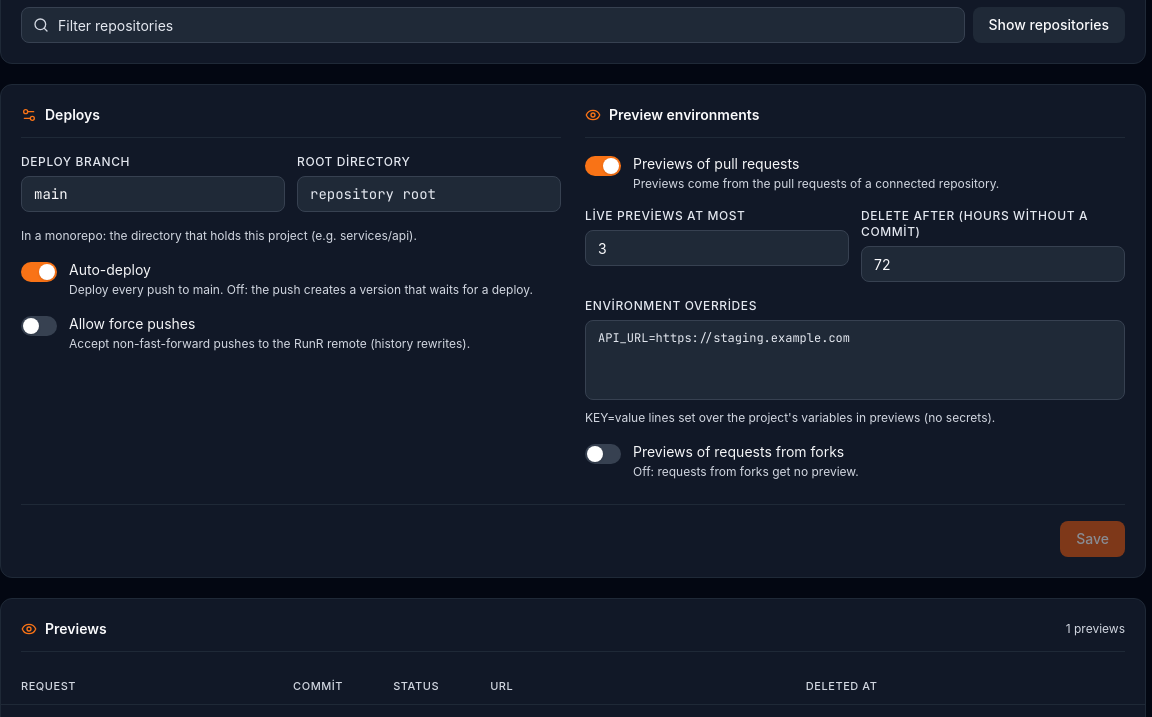
Test: ProjectGitTab › refuses reserved preview variables
(page scrolled)
Type "PORT=1" into the text box labelled "Environment overrides" at (855, 360), box left=585, top=320, right=1125, bottom=400
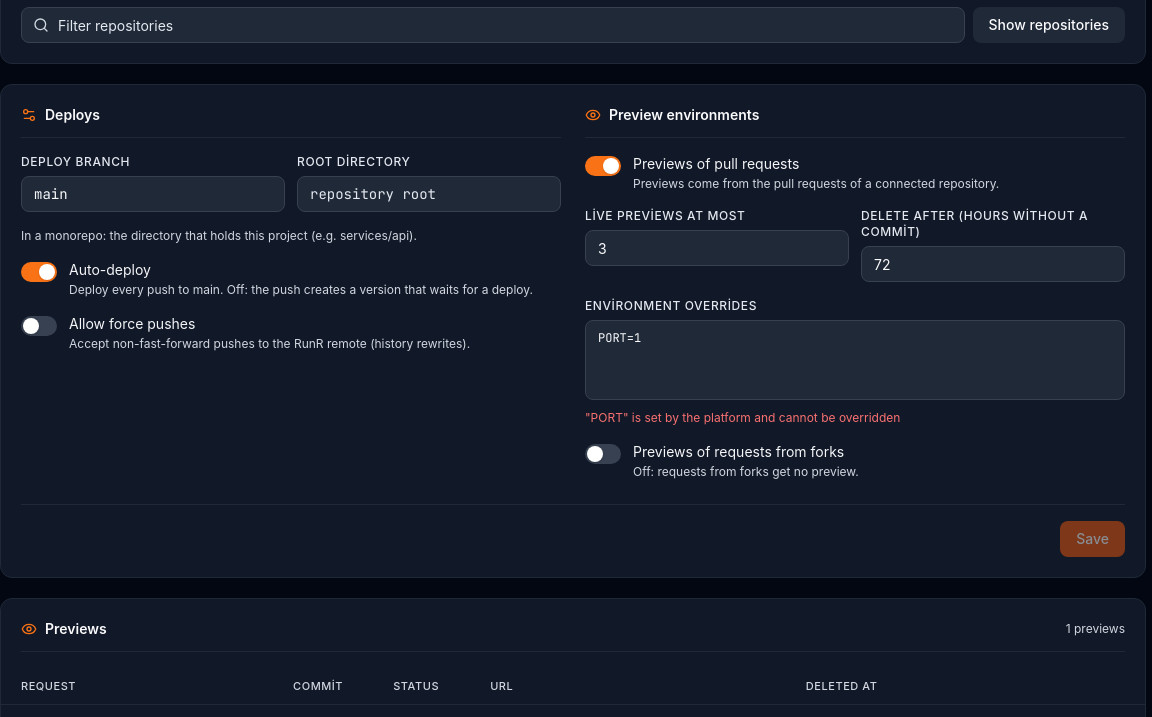
Expected: the text "PORT" is shown, left=585, top=410, right=900, bottom=425
